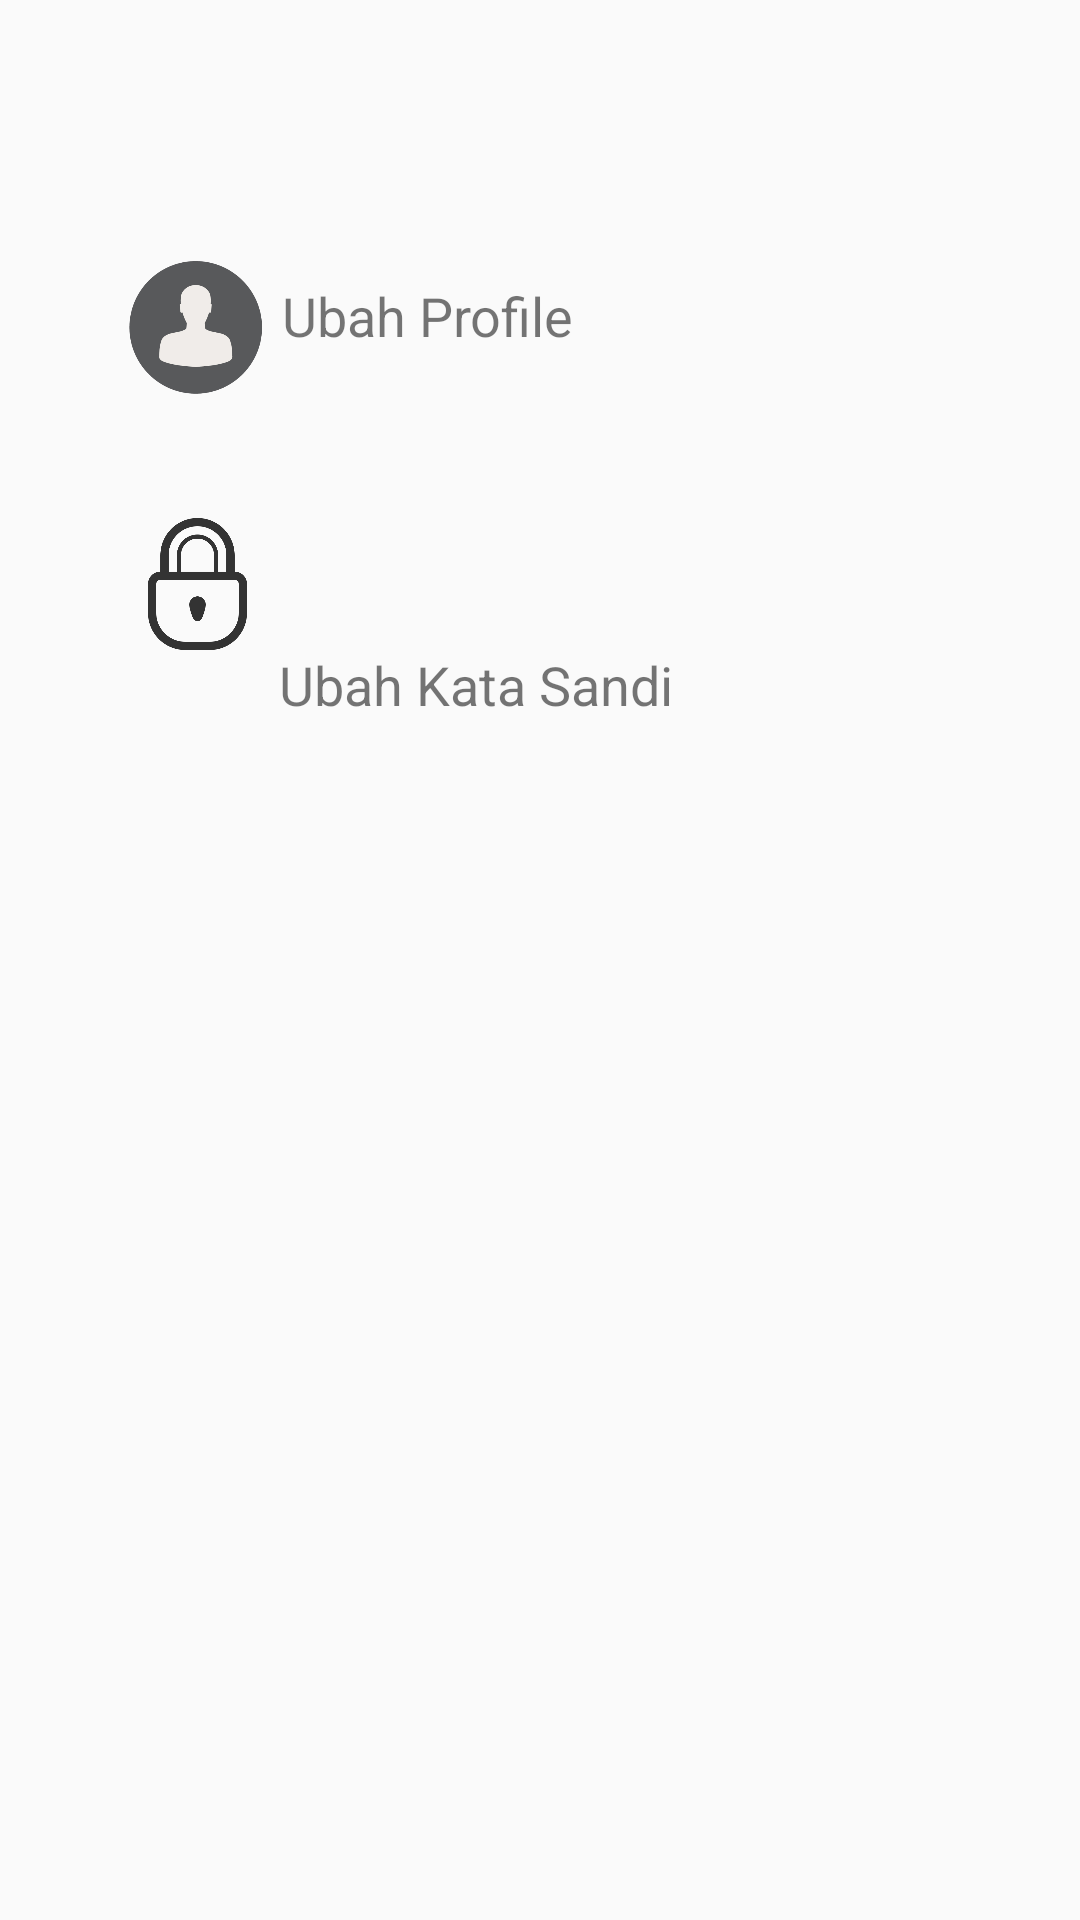

Named icons in this screenshot (1080w x 1920h) and their bounding boxes, (x1, y1, x2, y2):
lock: (148, 518, 247, 650)
person: (129, 261, 262, 394)
